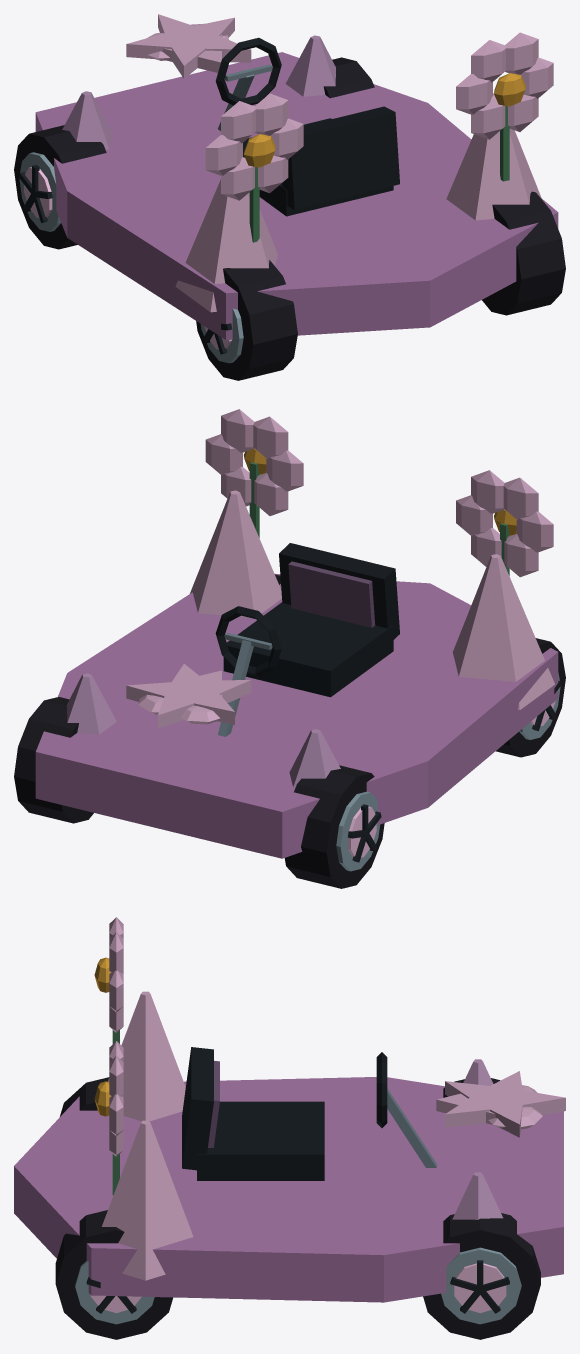
The model's file is kart.glb.
The picture shows the model from 3 angles, top to bottom: view 1: azimuth 30°, elevation 25°; view 2: azimuth 150°, elevation 25°; view 3: azimuth 270°, elevation 25°; orthographic projection.
Visible parts, largest first — view 1: identity-crystal-crystal-faceted-platform, identity-crystal-motif-flowers, identity-crystal-driver-cockpit, wheel-rear-left, wheel-rear-right, wheel-front-left, identity-crystal-motif-star, wheel-front-right, identity-crystal-motif-heart; view 2: identity-crystal-crystal-faceted-platform, identity-crystal-driver-cockpit, identity-crystal-motif-flowers, wheel-front-left, wheel-front-right, identity-crystal-motif-star, wheel-rear-left, identity-crystal-motif-heart; view 3: identity-crystal-crystal-faceted-platform, identity-crystal-driver-cockpit, wheel-front-right, wheel-rear-right, identity-crystal-motif-flowers, identity-crystal-motif-star, identity-crystal-motif-heart, wheel-rear-left.
Boxes of the visible parts, box(x1,y1,x2,y2) form: identity-crystal-crystal-faceted-platform: box(35, 35, 558, 339); identity-crystal-motif-flowers: box(205, 32, 553, 242); identity-crystal-driver-cockpit: box(215, 37, 399, 216); wheel-rear-left: box(196, 260, 297, 380); wheel-rear-right: box(482, 191, 565, 315); wheel-front-left: box(14, 125, 106, 249); identity-crystal-motif-star: box(126, 14, 251, 78); wheel-front-right: box(323, 57, 374, 98); identity-crystal-motif-heart: box(147, 23, 228, 72); identity-crystal-crystal-faceted-platform: box(35, 490, 558, 858); identity-crystal-driver-cockpit: box(215, 543, 399, 736); identity-crystal-motif-flowers: box(205, 409, 553, 577); wheel-front-left: box(284, 765, 384, 888); wheel-front-right: box(14, 697, 93, 823); identity-crystal-motif-star: box(126, 664, 251, 728); wheel-rear-left: box(496, 638, 565, 757); identity-crystal-motif-heart: box(138, 670, 222, 724); identity-crystal-crystal-faceted-platform: box(14, 991, 563, 1302); identity-crystal-driver-cockpit: box(182, 1047, 436, 1180); wheel-front-right: box(423, 1213, 540, 1339); wheel-rear-right: box(55, 1210, 173, 1339); identity-crystal-motif-flowers: box(94, 917, 123, 1195); identity-crystal-motif-star: box(445, 1071, 565, 1137); identity-crystal-motif-heart: box(436, 1085, 542, 1129); wheel-rear-left: box(60, 1077, 109, 1116).
Size of the model in its own units: 2.03 by 1.46 by 2.64.
